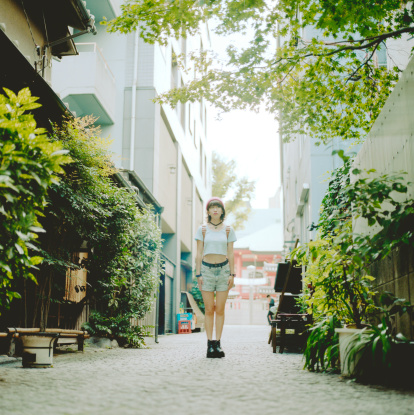em pe: (187, 192, 231, 357)
